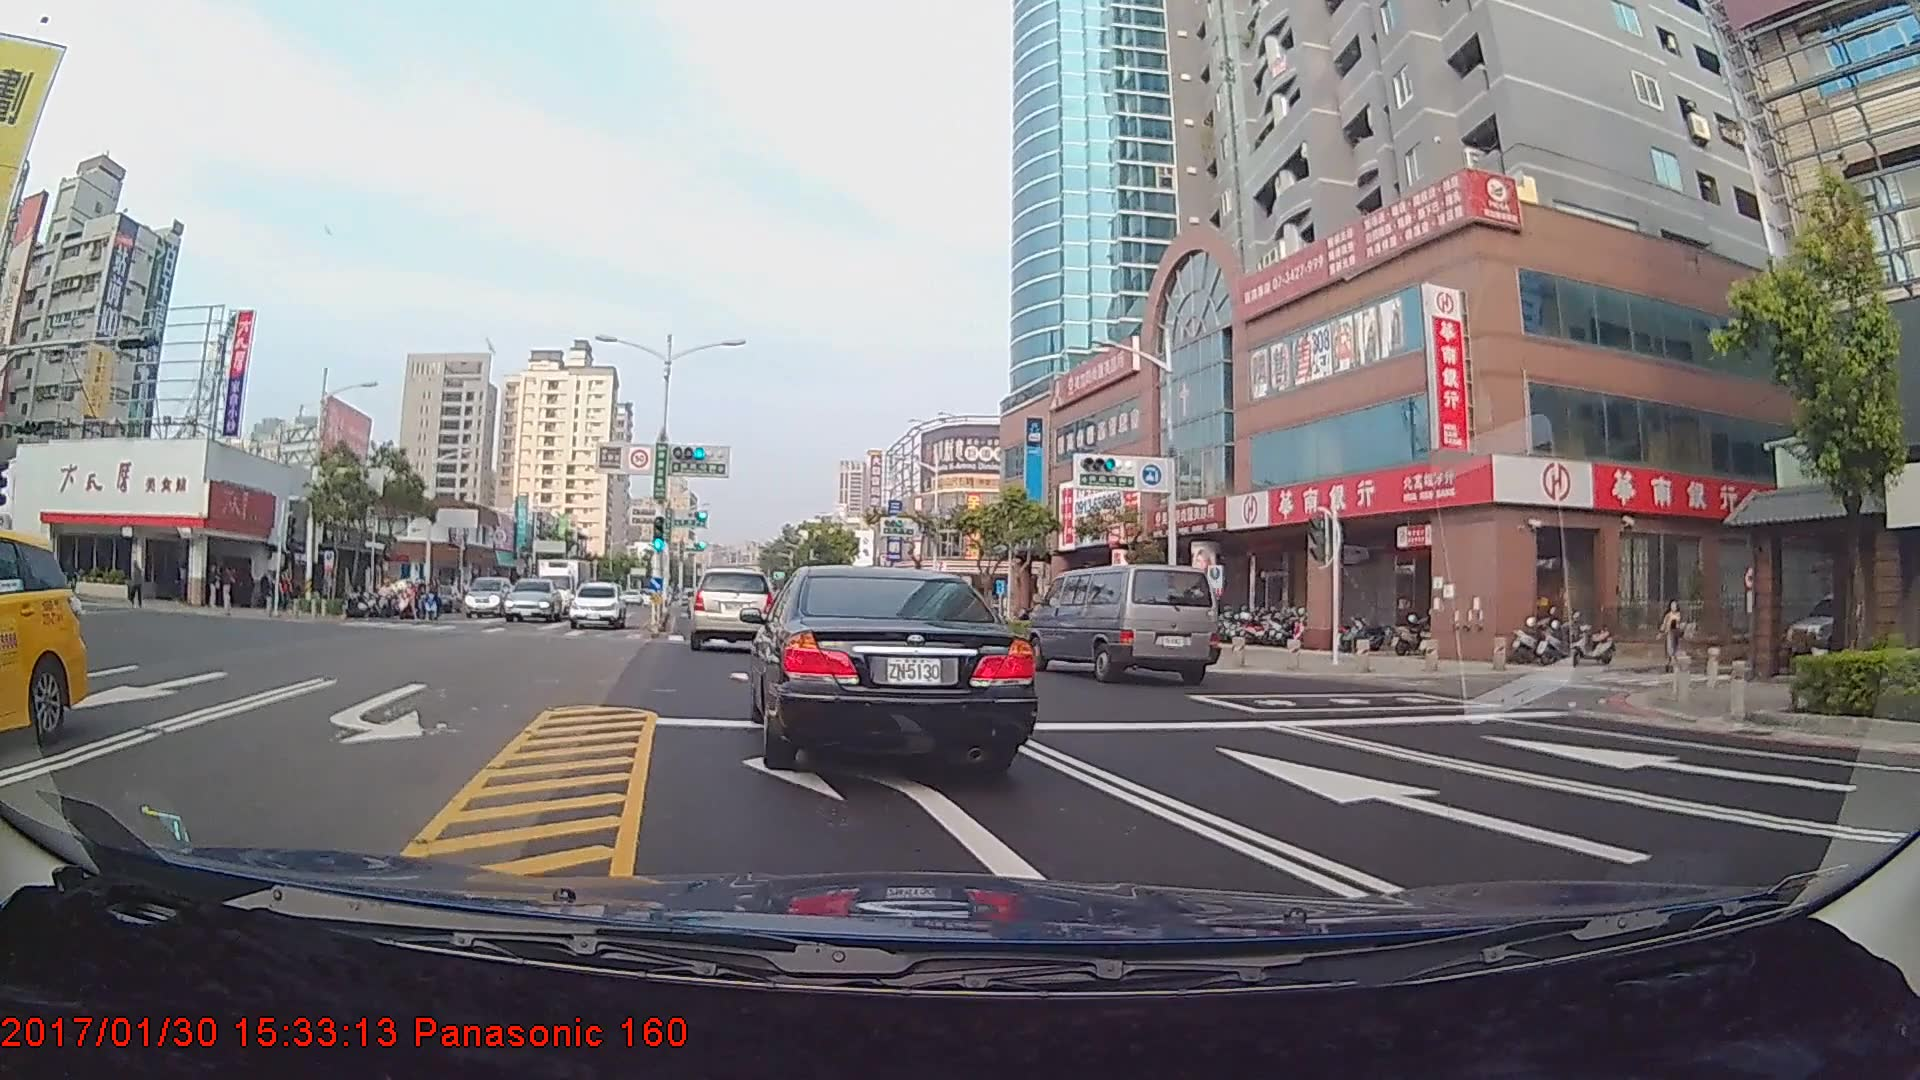pedestrian: (1661, 596, 1683, 663), (204, 559, 224, 609), (127, 560, 147, 608), (219, 563, 239, 611)
vehicle: (756, 557, 1034, 774), (1030, 559, 1219, 683), (0, 520, 83, 738), (686, 566, 775, 648), (537, 550, 591, 616), (503, 577, 567, 624), (570, 580, 626, 630), (462, 574, 515, 619)
